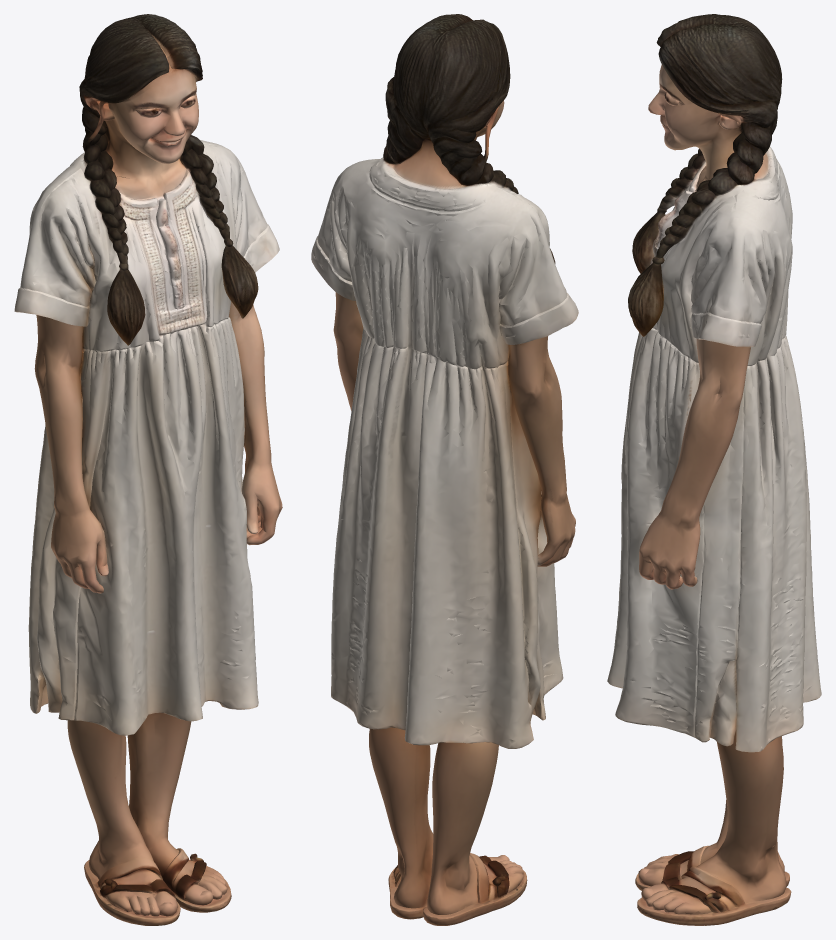
Rendered from crowd_girl_8_rodin_source.glb.
The picture shows the model from 3 angles, left to right: view 1: azimuth 30°, elevation 25°; view 2: azimuth 150°, elevation 25°; view 3: azimuth 270°, elevation 25°; orthographic projection.
Parts seen in each view (by area): view 1: model; view 2: model; view 3: model.
Boxes of the visible parts, left/top/right/bottom form: model: left=14, top=14, right=282, bottom=925; model: left=311, top=14, right=578, bottom=925; model: left=607, top=14, right=821, bottom=925.
Size of the model in its own units: 0.5926 by 1.9 by 0.4212.
1 material, 1 textured.
